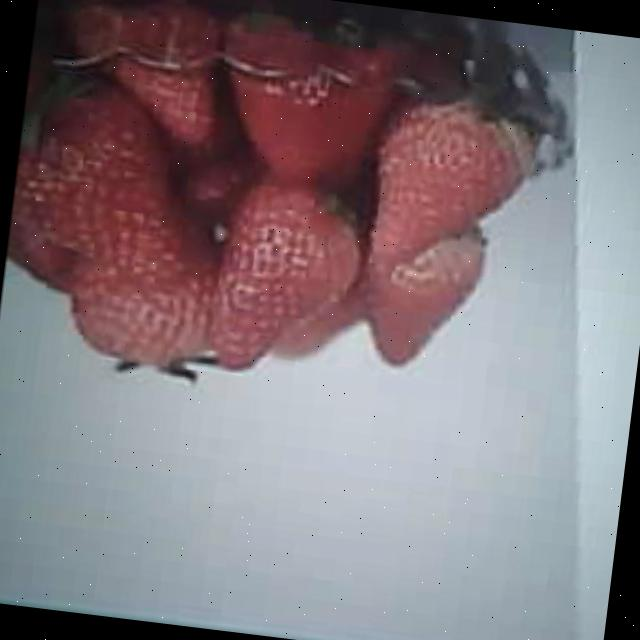strawberry: (4, 78, 200, 292), (206, 176, 369, 386), (366, 97, 530, 274)
